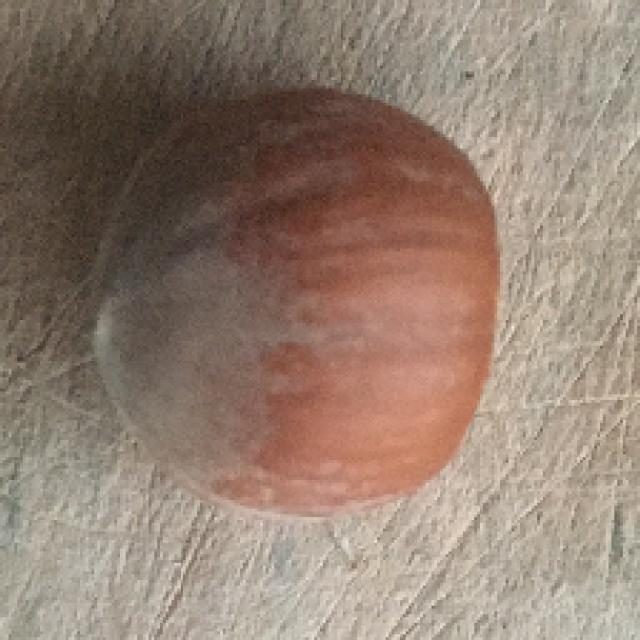qualityHazelnut: (84, 85, 505, 522)
